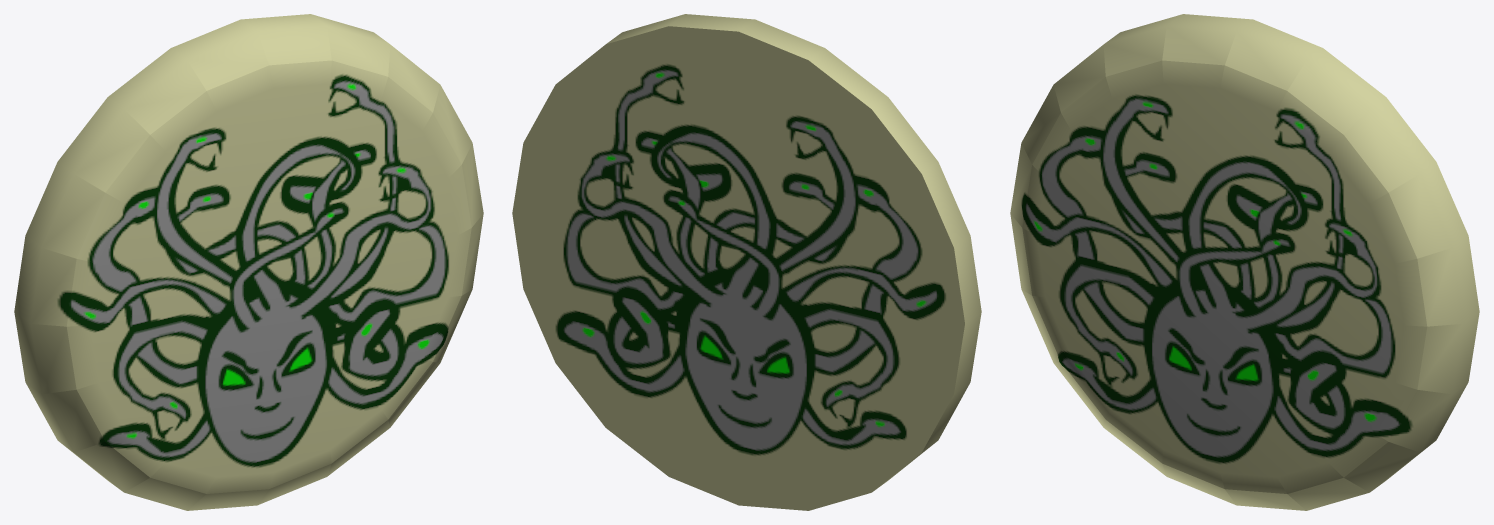
The model's file is medusacrest.obj.
3 renders of one model, left to right at view 1: azimuth 30°, elevation 25°; view 2: azimuth 150°, elevation 25°; view 3: azimuth 330°, elevation 25°, orthographic.
Parts seen in each view (by area): view 1: pCylinder1; view 2: pCylinder1; view 3: pCylinder1.
Part boxes in pixels (<box>): pCylinder1: <box>14,14,483,510</box>; pCylinder1: <box>512,14,981,510</box>; pCylinder1: <box>1010,14,1479,510</box>.
Bounding box in the file's own units: 2.3 × 2.3 × 0.2918.
